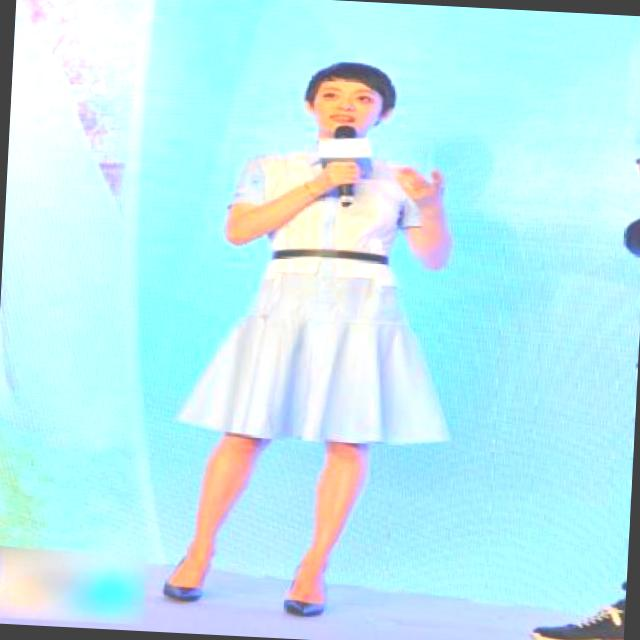Person: (144, 55, 487, 612)
